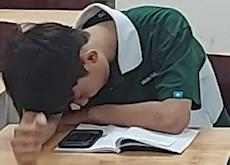Sleeping: (5, 3, 218, 160)
